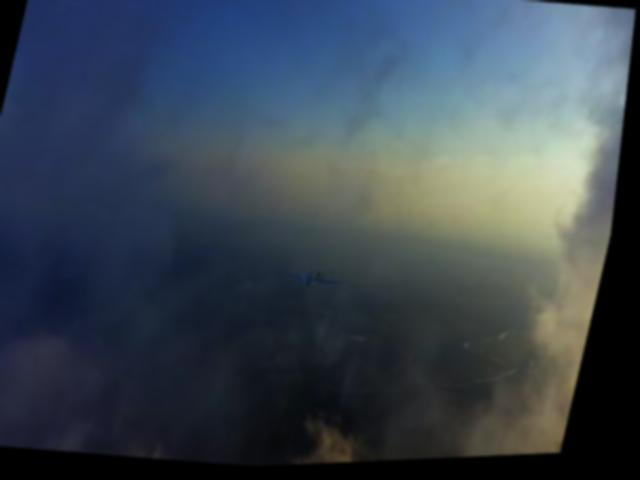uav: (289, 265, 350, 297)
